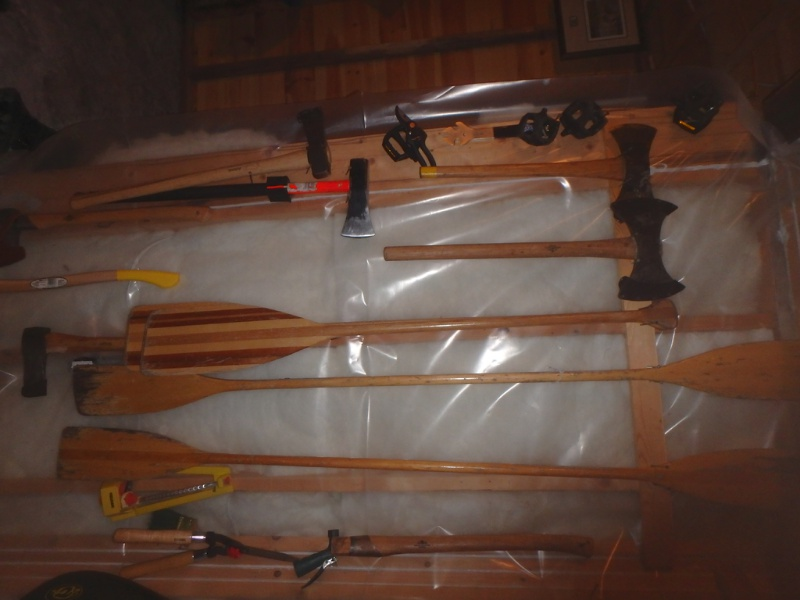axe: (607, 194, 698, 306), (599, 123, 666, 209), (14, 319, 80, 404), (340, 156, 381, 243)
